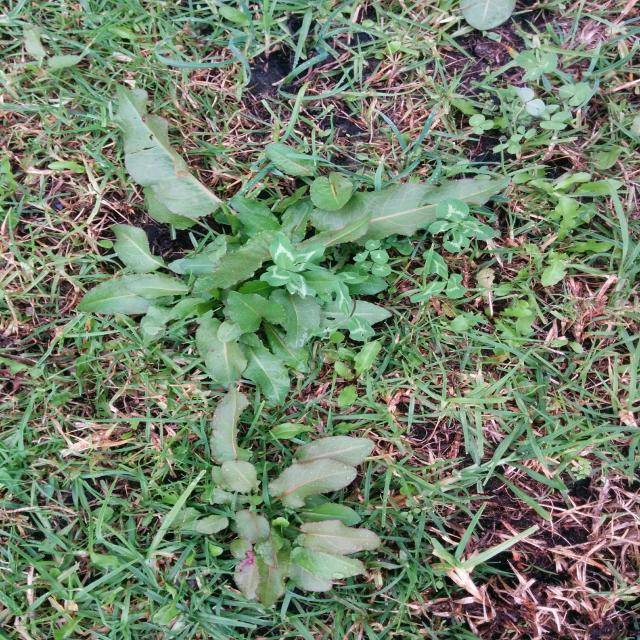Four Leaf Clover: (259, 233, 326, 299)
